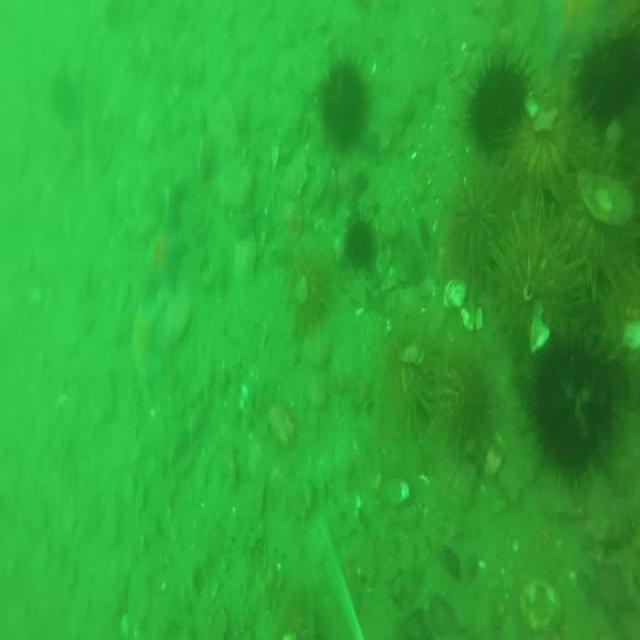echinus: (520, 334, 620, 496), (499, 199, 583, 345), (463, 43, 533, 164), (449, 171, 504, 292), (573, 27, 632, 126), (320, 55, 375, 150), (386, 329, 436, 430), (443, 352, 489, 458), (340, 204, 378, 264)
scallop: (578, 171, 632, 226), (531, 313, 550, 355), (445, 273, 466, 310), (387, 480, 409, 508)
starfish: (120, 302, 170, 408), (142, 193, 188, 300)
